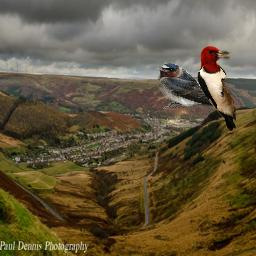Swallow: (155, 62, 232, 112)
Woodpecker: (197, 46, 236, 131)
